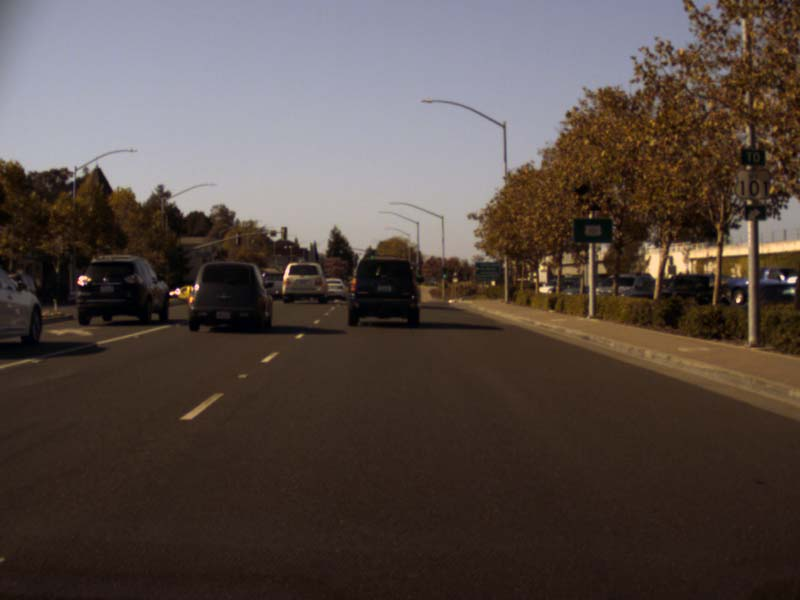Green: (442, 267, 447, 278), (416, 268, 421, 277), (370, 249, 374, 259), (339, 245, 343, 254)
